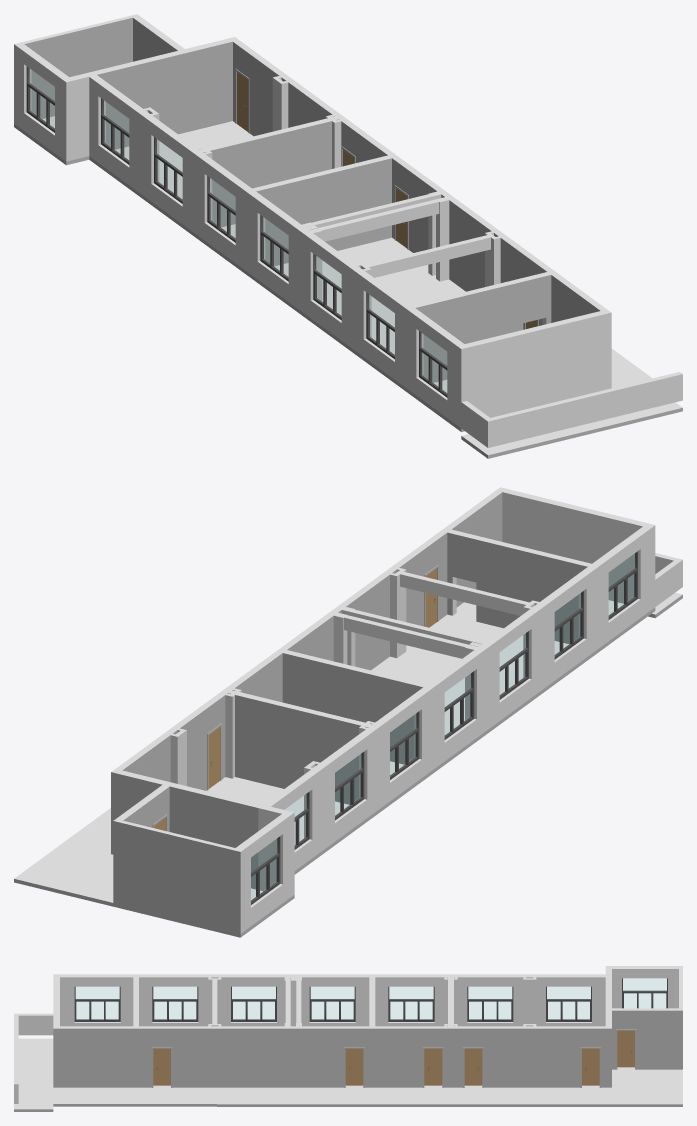
3 renders of one model, top to bottom at view 1: azimuth 30°, elevation 25°; view 2: azimuth 150°, elevation 25°; view 3: azimuth 270°, elevation 25°, orthographic. The views are drawn at different scales.
Visible parts, largest first — view 1: Floor_ZJKJ_楼地面_钢筋混凝土_150mm__2151341__1; view 2: Floor_ZJKJ_楼地面_钢筋混凝土_150mm__2151341__1; view 3: Floor_ZJKJ_楼地面_钢筋混凝土_150mm__2151341__1.
Boxes of the visible parts, <box> form: Floor_ZJKJ_楼地面_钢筋混凝土_150mm__2151341__1: <box>14,14,682,458</box>; Floor_ZJKJ_楼地面_钢筋混凝土_150mm__2151341__1: <box>14,487,682,937</box>; Floor_ZJKJ_楼地面_钢筋混凝土_150mm__2151341__1: <box>14,966,682,1111</box>.
Bounding box in the file's own units: 9538 × 3800 × 33990.
